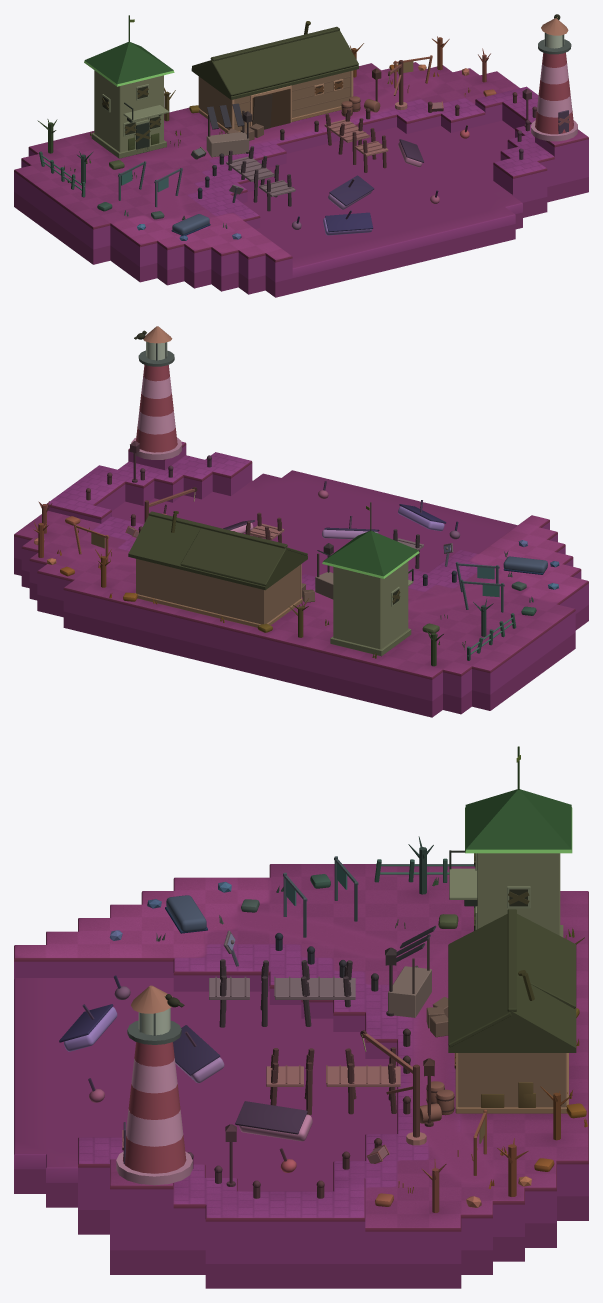
The model's file is coast_1_withered.glb.
The picture shows the model from 3 angles, top to bottom: view 1: azimuth 30°, elevation 25°; view 2: azimuth 150°, elevation 25°; view 3: azimuth 270°, elevation 25°; orthographic projection. The views are drawn at different scales.
Visible parts, largest first — view 1: Terrain.001, Buildings, Props, Trees, Greenery; view 2: Terrain.001, Buildings, Props, Trees, Greenery; view 3: Terrain.001, Buildings, Props, Greenery, Trees.
Boxes of the visible parts, x1=… form: Terrain.001: x1=14, y1=62, x2=588, y2=297; Buildings: x1=84, y1=15, x2=577, y2=235; Props: x1=39, y1=14, x2=560, y2=240; Trees: x1=37, y1=36, x2=490, y2=183; Greenery: x1=64, y1=64, x2=496, y2=228; Terrain.001: x1=14, y1=441, x2=588, y2=717; Buildings: x1=128, y1=326, x2=547, y2=656; Props: x1=34, y1=330, x2=559, y2=660; Trees: x1=33, y1=501, x2=493, y2=666; Greenery: x1=57, y1=516, x2=536, y2=658; Terrain.001: x1=14, y1=864, x2=588, y2=1288; Buildings: x1=59, y1=746, x2=576, y2=1185; Props: x1=88, y1=856, x2=531, y2=1207; Greenery: x1=156, y1=874, x2=587, y2=1206; Trees: x1=408, y1=836, x2=584, y2=1212.
Size of the model in its own units: 27 by 9.42 by 18.
34 materials, 1 textured.
